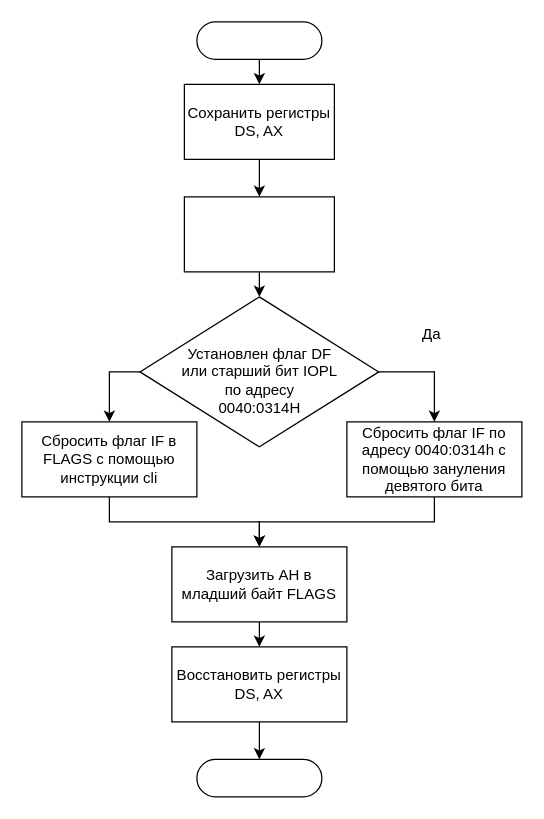
This 544x819 diagram has some shape labels left out. Here are the shapes that lost their labels. From the top down, the centre of each, then its label:
point 259,40: Начало
point 258,234: Загрузить младший байт FLAGS в AH
point 259,777: Конец
